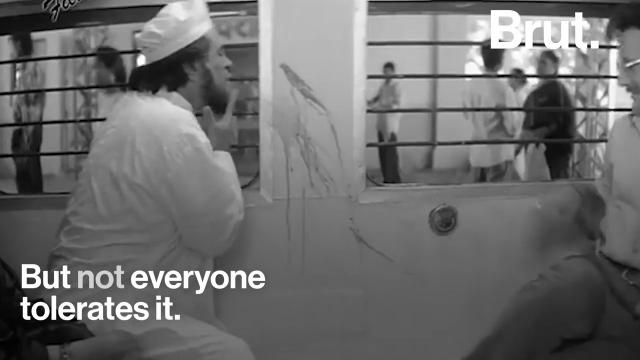spit: (214, 34, 363, 270)
